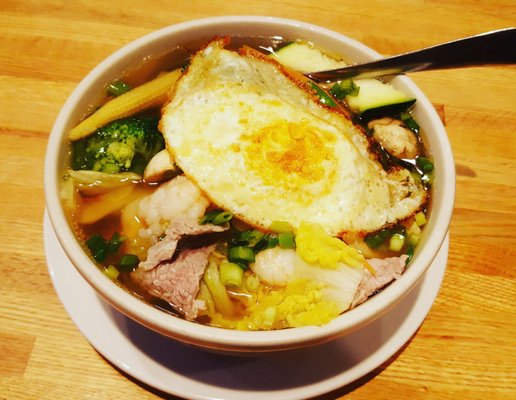curry: (74, 116, 166, 175)
sandwich: (305, 26, 516, 87)
sushi: (42, 13, 450, 359)
